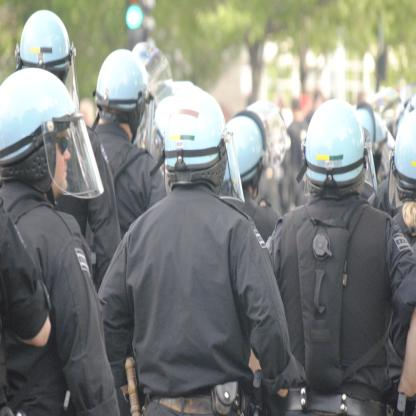Helmet: (0, 65, 104, 200), (151, 88, 244, 196), (301, 106, 370, 202), (225, 94, 288, 198), (93, 49, 153, 153), (15, 10, 77, 84), (151, 82, 194, 174), (357, 106, 394, 183), (388, 106, 416, 202), (394, 97, 416, 130)
